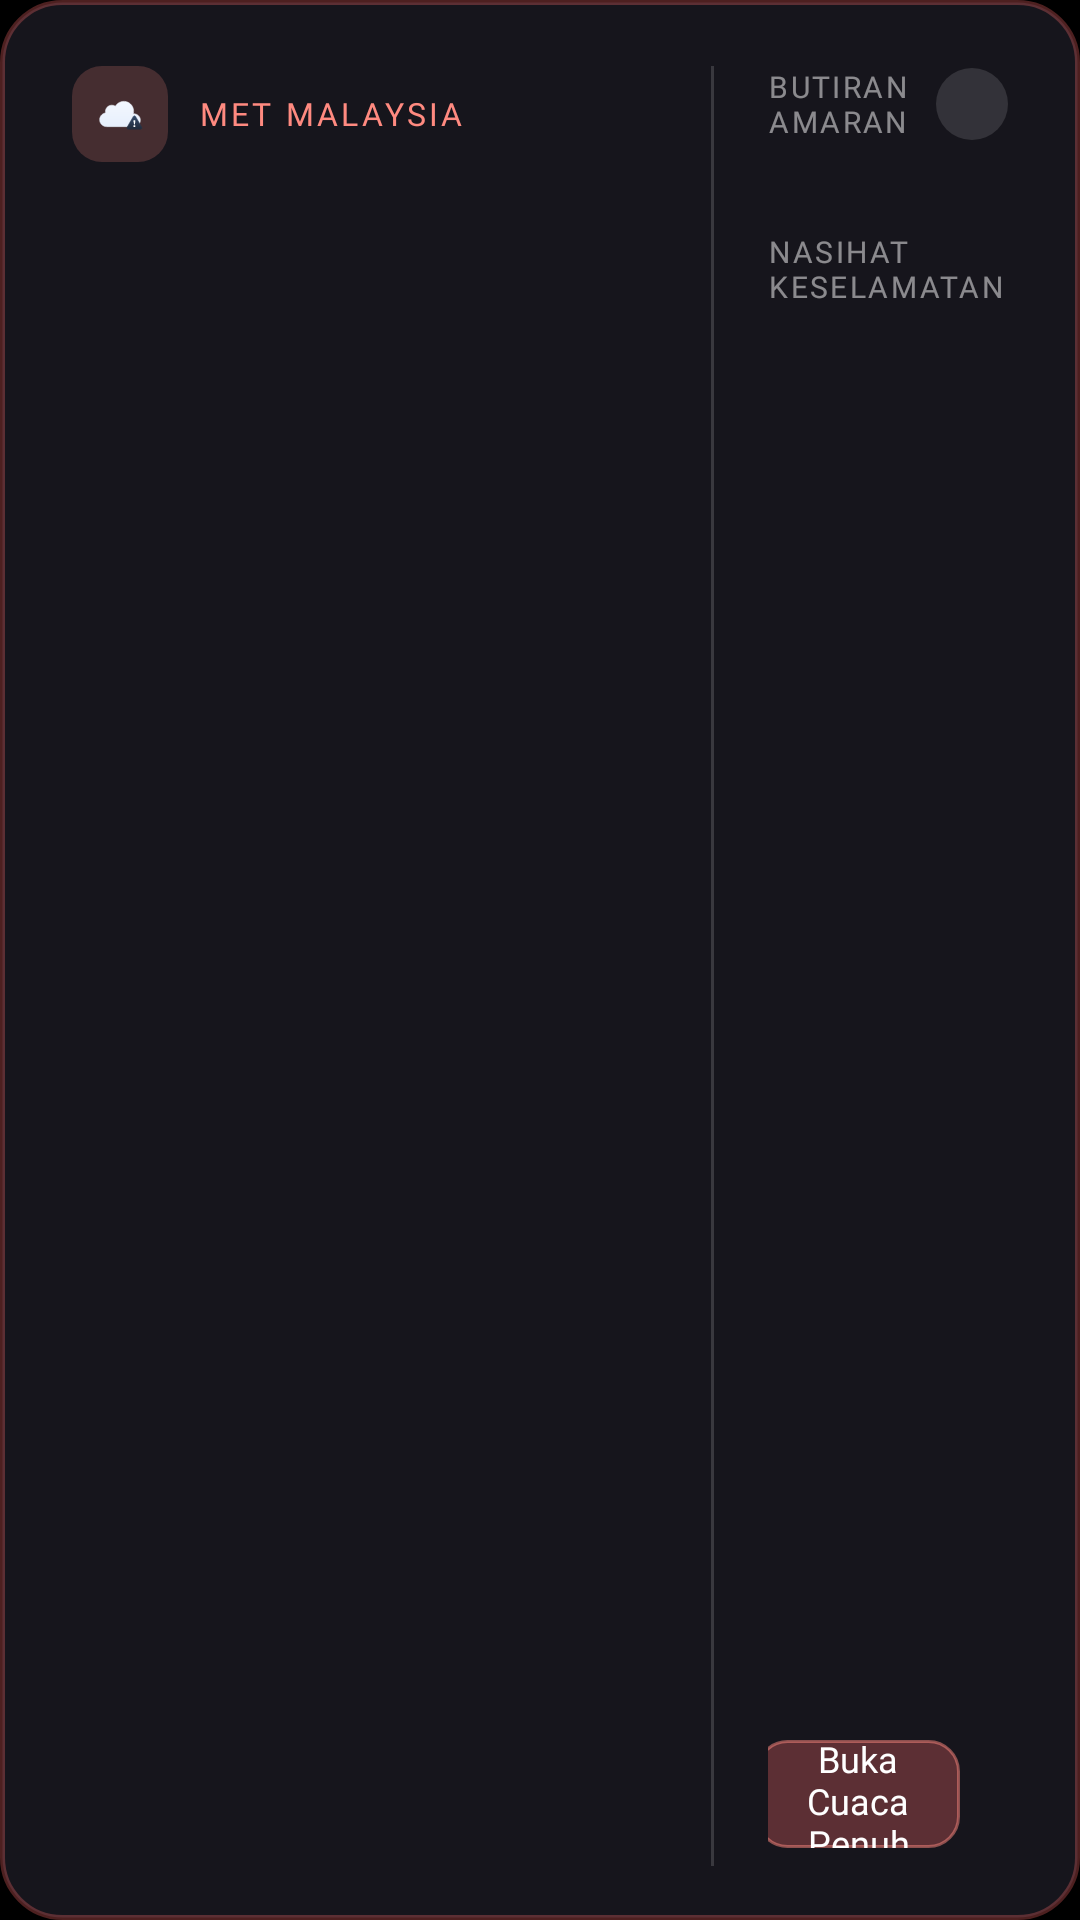

Locate icon controls on the screen. Image size 1080 x 1920, boxes as box(x1, y1, x2, y2).
Warning Icon: box(72, 66, 168, 162)
